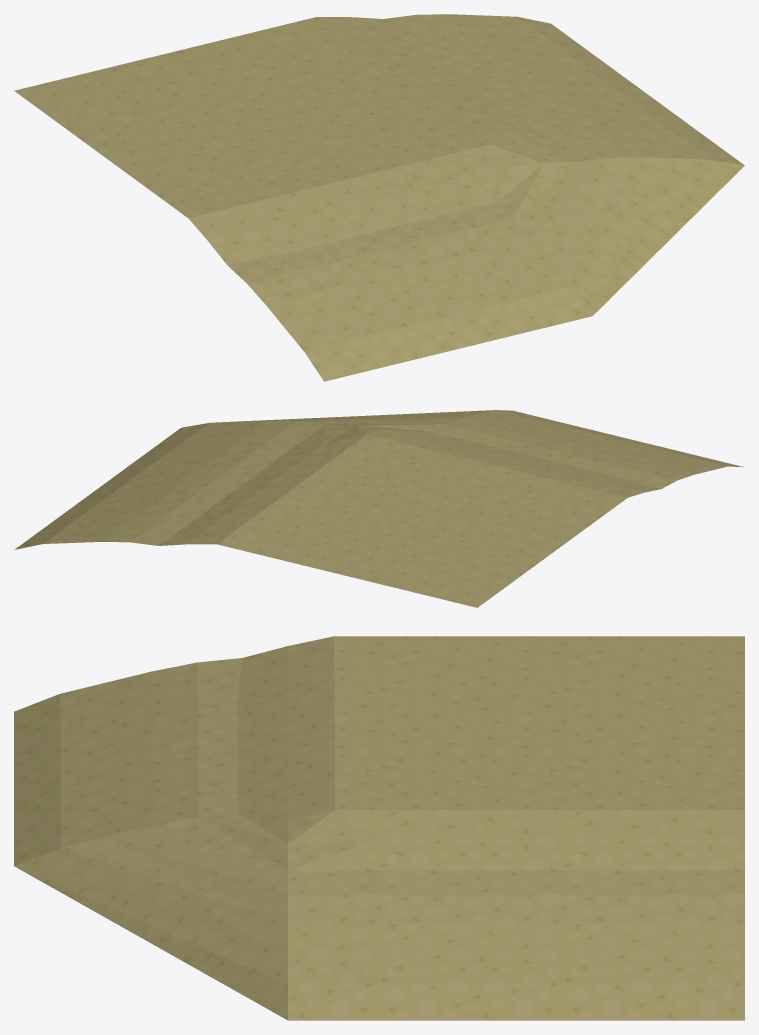
The model's file is chunk_0008.glb.
The picture shows the model from 3 angles, top to bottom: view 1: azimuth 30°, elevation 25°; view 2: azimuth 150°, elevation 25°; view 3: azimuth 270°, elevation 25°; orthographic projection. The views are drawn at different scales.
Parts seen in each view (by area): view 1: chunk_0008; view 2: chunk_0008; view 3: chunk_0008.
Boxes of the visible parts, x1,y1,x2,y2 form: chunk_0008: (14, 14, 744, 381); chunk_0008: (14, 410, 744, 607); chunk_0008: (14, 636, 744, 1020).
Size of the model in its own units: 10 by 1.14 by 10.
1 material, 1 textured.
